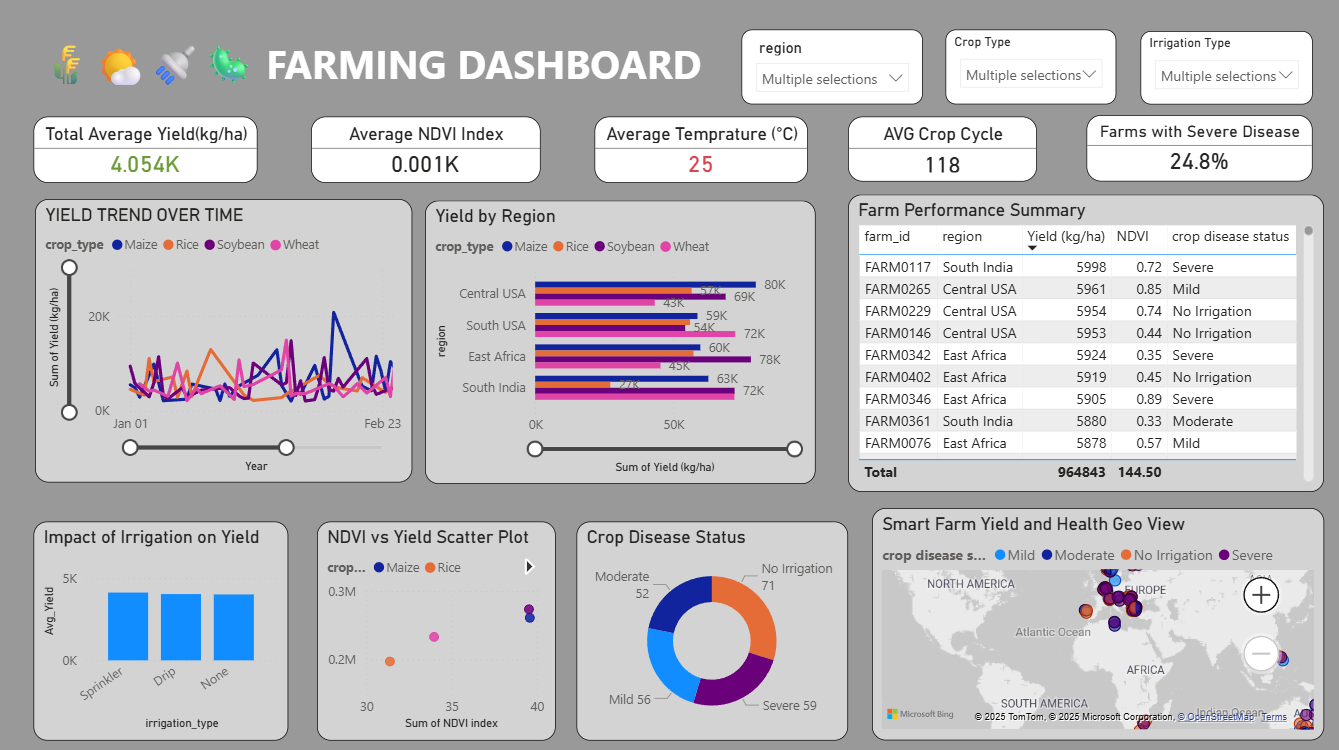

What the dashboard file says about the page in this screenshot:
{"tool":"powerbi","page":{"name":"Page 1","canvas":[1280,720],"ordinal":0},"visuals":[{"type":"slicer","title":"Region","fields":{"Values":["Smart_Farming_Crop_Yield_2024.region"]},"box":[707.1,30,172.9,71.4],"z":0},{"type":"slicer","title":"Crop Type","fields":{"Values":["Smart_Farming_Crop_Yield_2024.crop_type"]},"box":[901.4,30,162.9,71.4],"z":1000},{"type":"slicer","title":"Irrigation Type","fields":{"Values":["Smart_Farming_Crop_Yield_2024.irrigation_type"]},"box":[1087.1,31.4,164.3,70],"z":2000},{"type":"card","title":"Total Average Yield(kg/ha)","fields":{"Values":["Smart_Farming_Crop_Yield_2024.Avg_Yield"]},"box":[33.3,113.3,213.3,63.3],"z":3000},{"type":"card","title":"Average NDVI Index","fields":{"Values":["Smart_Farming_Crop_Yield_2024.Avg_NDVI"]},"box":[296.7,113.3,218.3,63.3],"z":4000},{"type":"card","title":"Average Temprature (°C)","fields":{"Values":["Smart_Farming_Crop_Yield_2024.Avg_Temp"]},"box":[566.7,113.3,203.3,63.3],"z":5000},{"type":"lineChart","title":"YIELD TREND OVER TIME","fields":{"Series":["Smart_Farming_Crop_Yield_2024.crop_type"],"Category":["Smart_Farming_Crop_Yield_2024.sowing date.Variation.Date Hierarchy.Year","Smart_Farming_Crop_Yield_2024.sowing date.Variation.Date Hierarchy.Quarter","Smart_Farming_Crop_Yield_2024.sowing date.Variation.Date Hierarchy.Month","Smart_Farming_Crop_Yield_2024.sowing date.Variation.Date Hierarchy.Day"],"Y":["Sum(Smart_Farming_Crop_Yield_2024.Yield (kg/ha))"]},"box":[34,190.9,359.1,270.2],"z":6000},{"type":"clusteredBarChart","title":"Yield by Region","fields":{"Y":["Sum(Smart_Farming_Crop_Yield_2024.Yield (kg/ha))"],"Category":["Smart_Farming_Crop_Yield_2024.region"],"Series":["Smart_Farming_Crop_Yield_2024.crop_type"]},"box":[406.3,192.8,372.3,270.2],"z":7000},{"type":"clusteredColumnChart","title":"Impact of Irrigation on Yield","fields":{"Category":["Smart_Farming_Crop_Yield_2024.irrigation_type"],"Y":["Smart_Farming_Crop_Yield_2024.Avg_Yield"]},"box":[32.9,498.6,242.9,208.6],"z":8000},{"type":"scatterChart","title":"NDVI vs Yield Scatter Plot","fields":{"X":["Sum(Smart_Farming_Crop_Yield_2024.NDVI index)"],"Y":["Sum(Smart_Farming_Crop_Yield_2024.Yield (kg/ha))"],"Series":["Smart_Farming_Crop_Yield_2024.crop_type"]},"box":[302.9,498.6,227.1,208.6],"z":9000},{"type":"donutChart","title":"Crop Disease Status","fields":{"Category":["Smart_Farming_Crop_Yield_2024.crop disease status"],"Y":["Smart_Farming_Crop_Yield_2024.Farm_Count"]},"box":[550,498.6,258.6,208.6],"z":10000},{"type":"map","title":"Smart Farm Yield and Health Geo View","fields":{"Category":["Smart_Farming_Crop_Yield_2024.Yield (kg/ha)"],"Series":["Smart_Farming_Crop_Yield_2024.crop disease status"]},"box":[831.5,485.7,430.9,221.1],"z":11000},{"type":"tableEx","title":"Farm Performance Summary","fields":{"Values":["Smart_Farming_Crop_Yield_2024.farm_id","Smart_Farming_Crop_Yield_2024.region","Sum(Smart_Farming_Crop_Yield_2024.Yield (kg/ha))","Sum(Smart_Farming_Crop_Yield_2024.NDVI index)","Smart_Farming_Crop_Yield_2024.crop disease status"]},"box":[808.8,187.1,453.5,283.5],"z":12000},{"type":"textbox","box":[34,32.1,672.8,86.9],"z":13000},{"type":"card","title":"AVG Crop Cycle","fields":{"Values":["Smart_Farming_Crop_Yield_2024.Avg_Crop_Duration"]},"box":[808.3,113.3,180,61.7],"z":14000},{"type":"card","title":"Farms with Severe Disease","fields":{"Values":["Smart_Farming_Crop_Yield_2024.Severe_Disease_Percentage"]},"box":[1035,111.7,215,63.3],"z":15000}]}

Visuals, with their boxes in screenshot pixels (x1, y1, x2, y2), scaled from the page's 1280x720 canvas onto the 1339x750 screenshot:
"Region" slicer: (left=740, top=31, right=921, bottom=106)
"Crop Type" slicer: (left=943, top=31, right=1113, bottom=106)
"Irrigation Type" slicer: (left=1137, top=33, right=1309, bottom=106)
"Total Average Yield(kg/ha)" card: (left=35, top=118, right=258, bottom=184)
"Average NDVI Index" card: (left=310, top=118, right=539, bottom=184)
"Average Temprature (°C)" card: (left=593, top=118, right=805, bottom=184)
"YIELD TREND OVER TIME" lineChart: (left=36, top=199, right=411, bottom=480)
"Yield by Region" clusteredBarChart: (left=425, top=201, right=814, bottom=482)
"Impact of Irrigation on Yield" clusteredColumnChart: (left=34, top=519, right=289, bottom=737)
"NDVI vs Yield Scatter Plot" scatterChart: (left=317, top=519, right=554, bottom=737)
"Crop Disease Status" donutChart: (left=575, top=519, right=846, bottom=737)
"Smart Farm Yield and Health Geo View" map: (left=870, top=506, right=1321, bottom=736)
"Farm Performance Summary" tableEx: (left=846, top=195, right=1320, bottom=490)
textbox: (left=36, top=33, right=739, bottom=124)
"AVG Crop Cycle" card: (left=846, top=118, right=1034, bottom=182)
"Farms with Severe Disease" card: (left=1083, top=116, right=1308, bottom=182)
